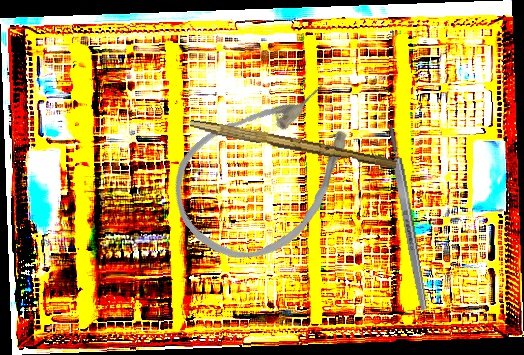Cannula: (149, 57, 387, 287)
Scalpel Handle: (188, 118, 398, 171), (385, 123, 430, 313)
